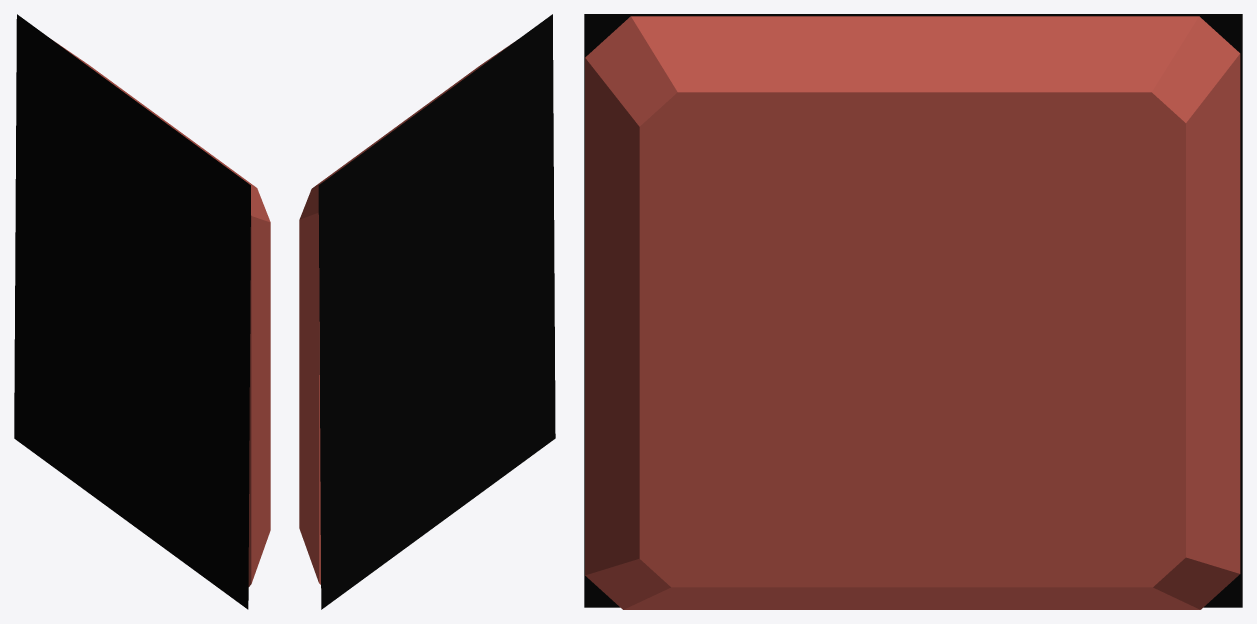
Rendered from blanktabred.glb.
The picture shows the model from 3 angles, left to right: view 1: azimuth 30°, elevation 25°; view 2: azimuth 150°, elevation 25°; view 3: azimuth 270°, elevation 25°; orthographic projection. The views are drawn at different scales.
Visible parts, largest first — view 1: Plane, Cube; view 2: Plane, Cube; view 3: Cube, Plane.
Part boxes in pixels (left/top/right/bottom): Plane: left=14, top=14, right=250, bottom=609; Cube: left=54, top=41, right=270, bottom=586; Plane: left=318, top=14, right=555, bottom=609; Cube: left=299, top=40, right=516, bottom=584; Cube: left=585, top=16, right=1240, bottom=609; Plane: left=584, top=14, right=1242, bottom=607.
Bounding box in the file's own units: 0.2493 × 2.41 × 2.41.
